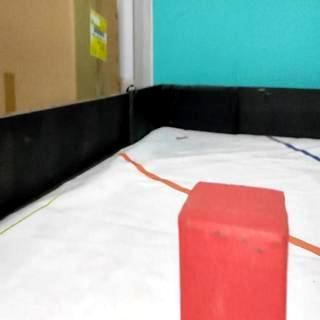redbox: (178, 181, 290, 320)
